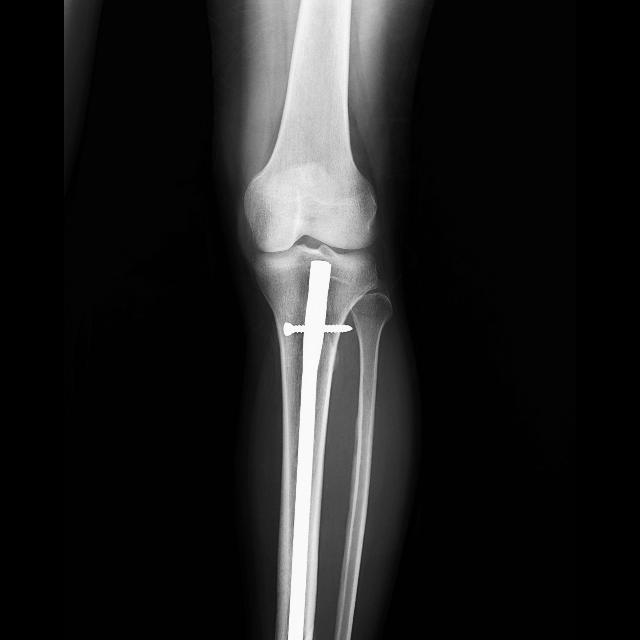fractured: (304, 271, 383, 300)
